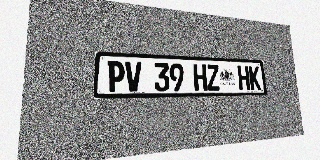3: (154, 62, 170, 91)
9: (169, 63, 184, 91)
H: (193, 64, 207, 91), (237, 66, 250, 90)
K: (248, 66, 261, 90)
P: (107, 61, 125, 92)
V: (125, 61, 142, 92)
Z: (206, 64, 220, 91)
